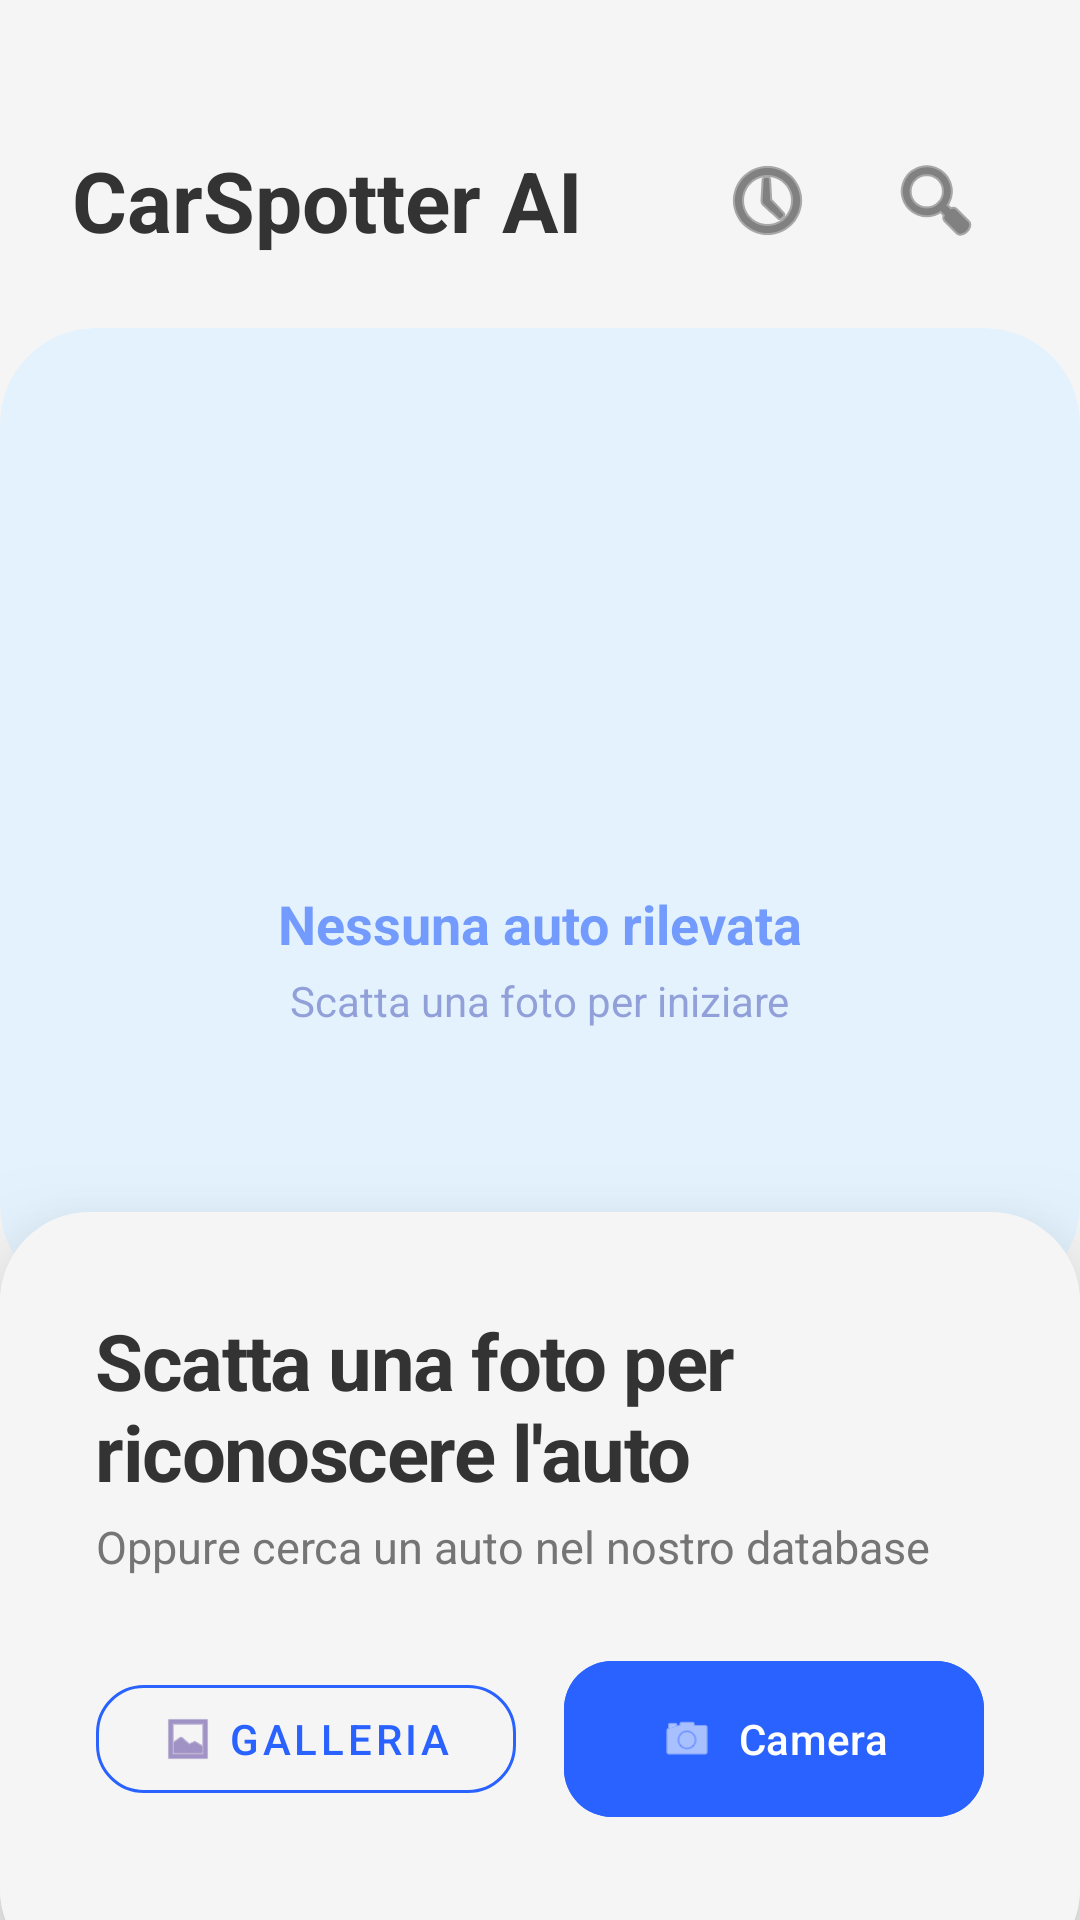

Where to tap for icons on this 1080×1920 app screen, as (x=x, y=y):
recent history: (x=767, y=200)
search: (x=936, y=200)
